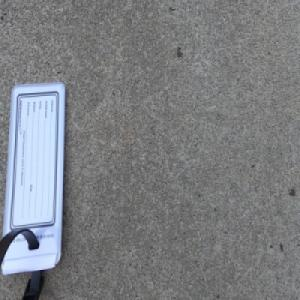LuggageTag: (0, 80, 67, 300)
